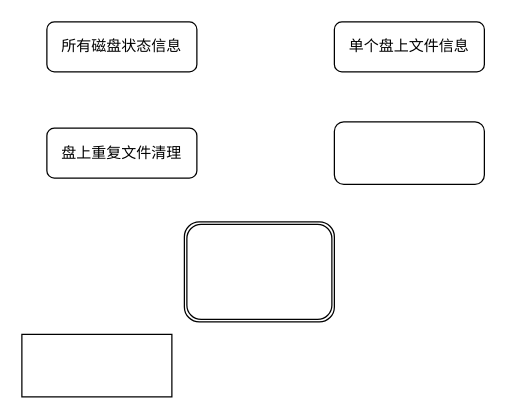
The diagram is 506 pixels wide and 419 high, and some of its shapes have lost their labels. The centre of each missing label's shape, as x and y in pixels:
"文件查询" belongs at (258,271).
"盘到盘文件转储" belongs at (408,152).
